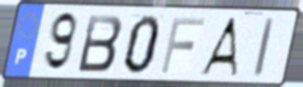0: (122, 13, 163, 76)
9: (41, 11, 79, 75)
A: (197, 16, 239, 78)
B: (76, 13, 125, 74)
F: (158, 16, 207, 76)
I: (251, 16, 276, 80)
